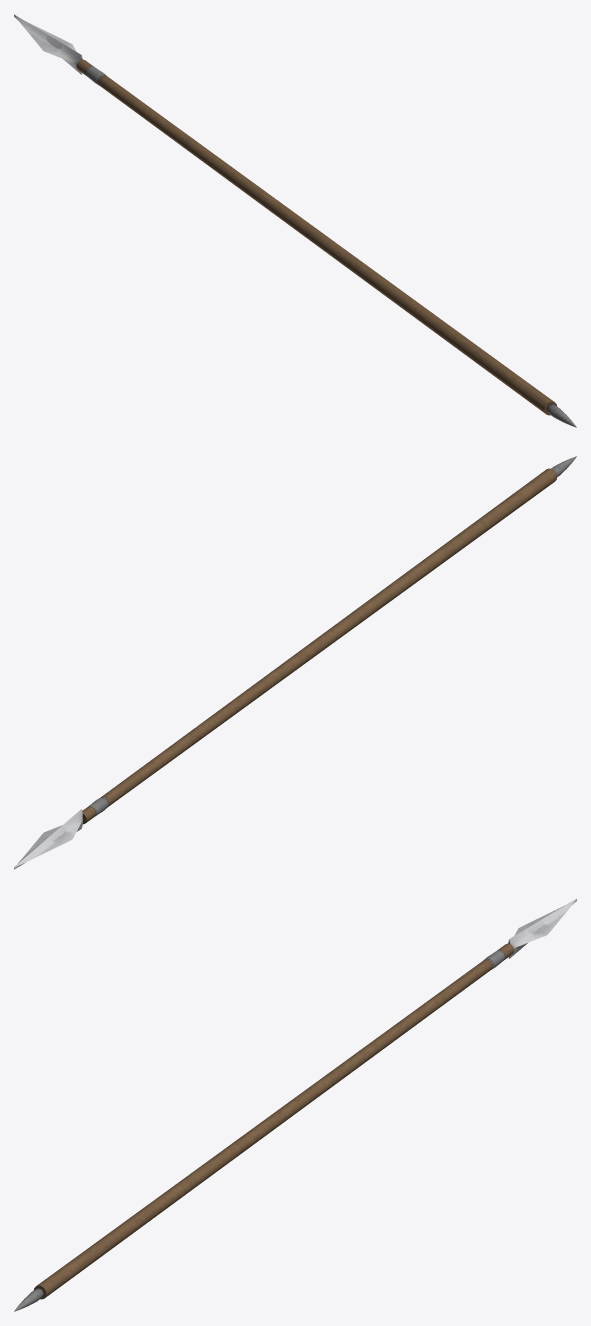
File: rhomb_spear.glb
The picture shows the model from 3 angles, top to bottom: view 1: azimuth 30°, elevation 25°; view 2: azimuth 150°, elevation 25°; view 3: azimuth 330°, elevation 25°; orthographic projection.
Parts seen in each view (by area): view 1: rhomb_spear; view 2: rhomb_spear; view 3: rhomb_spear.
Part boxes in pixels (x1,y1,x2,y2): rhomb_spear: (14, 14, 576, 427); rhomb_spear: (14, 456, 576, 869); rhomb_spear: (14, 898, 576, 1311).
Bounding box in the file's own units: 0.0681 × 0.0461 × 2.33.
Materials: 1 (1 with a texture image).
